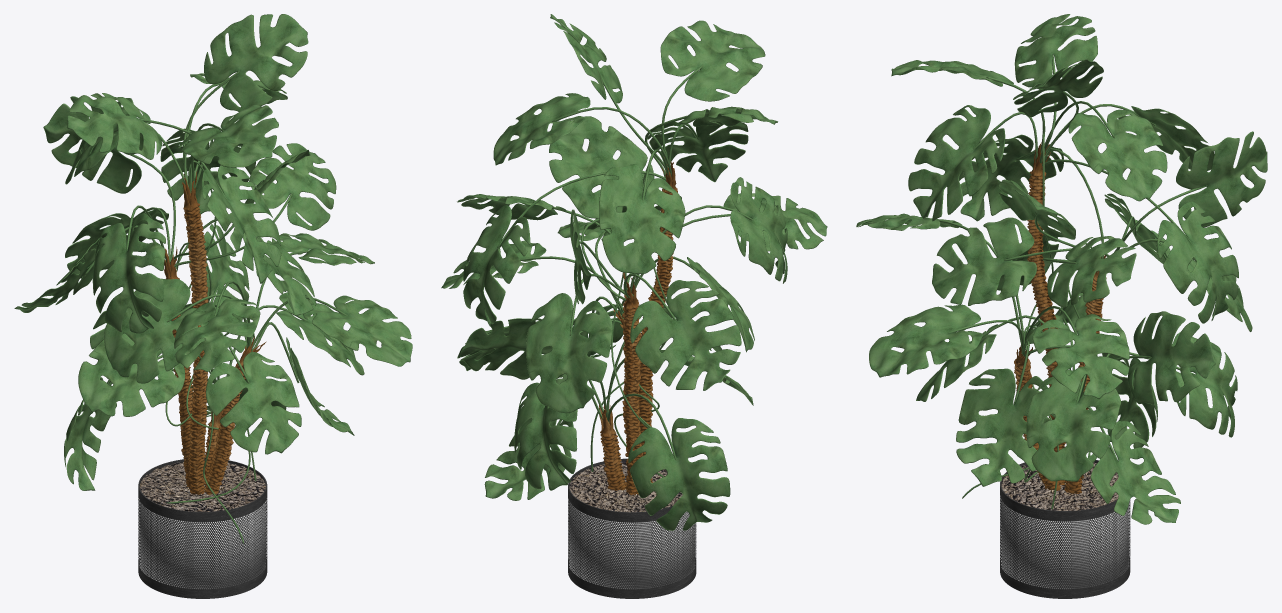
The model's file is house_plant.glb.
3 renders of one model, left to right at view 1: azimuth 30°, elevation 25°; view 2: azimuth 150°, elevation 25°; view 3: azimuth 270°, elevation 25°, orthographic.
Parts seen in each view (by area): view 1: Plant house Mano de leon N251220_0; view 2: Plant house Mano de leon N251220_0; view 3: Plant house Mano de leon N251220_0.
Part boxes in pixels (x1,y1,x2,y2): Plant house Mano de leon N251220_0: [14, 14, 412, 598]; Plant house Mano de leon N251220_0: [441, 14, 827, 598]; Plant house Mano de leon N251220_0: [856, 14, 1267, 598].
Size of the model in its own units: 5.06 by 8.17 by 5.6.
Materials: 5 (5 with a texture image).
